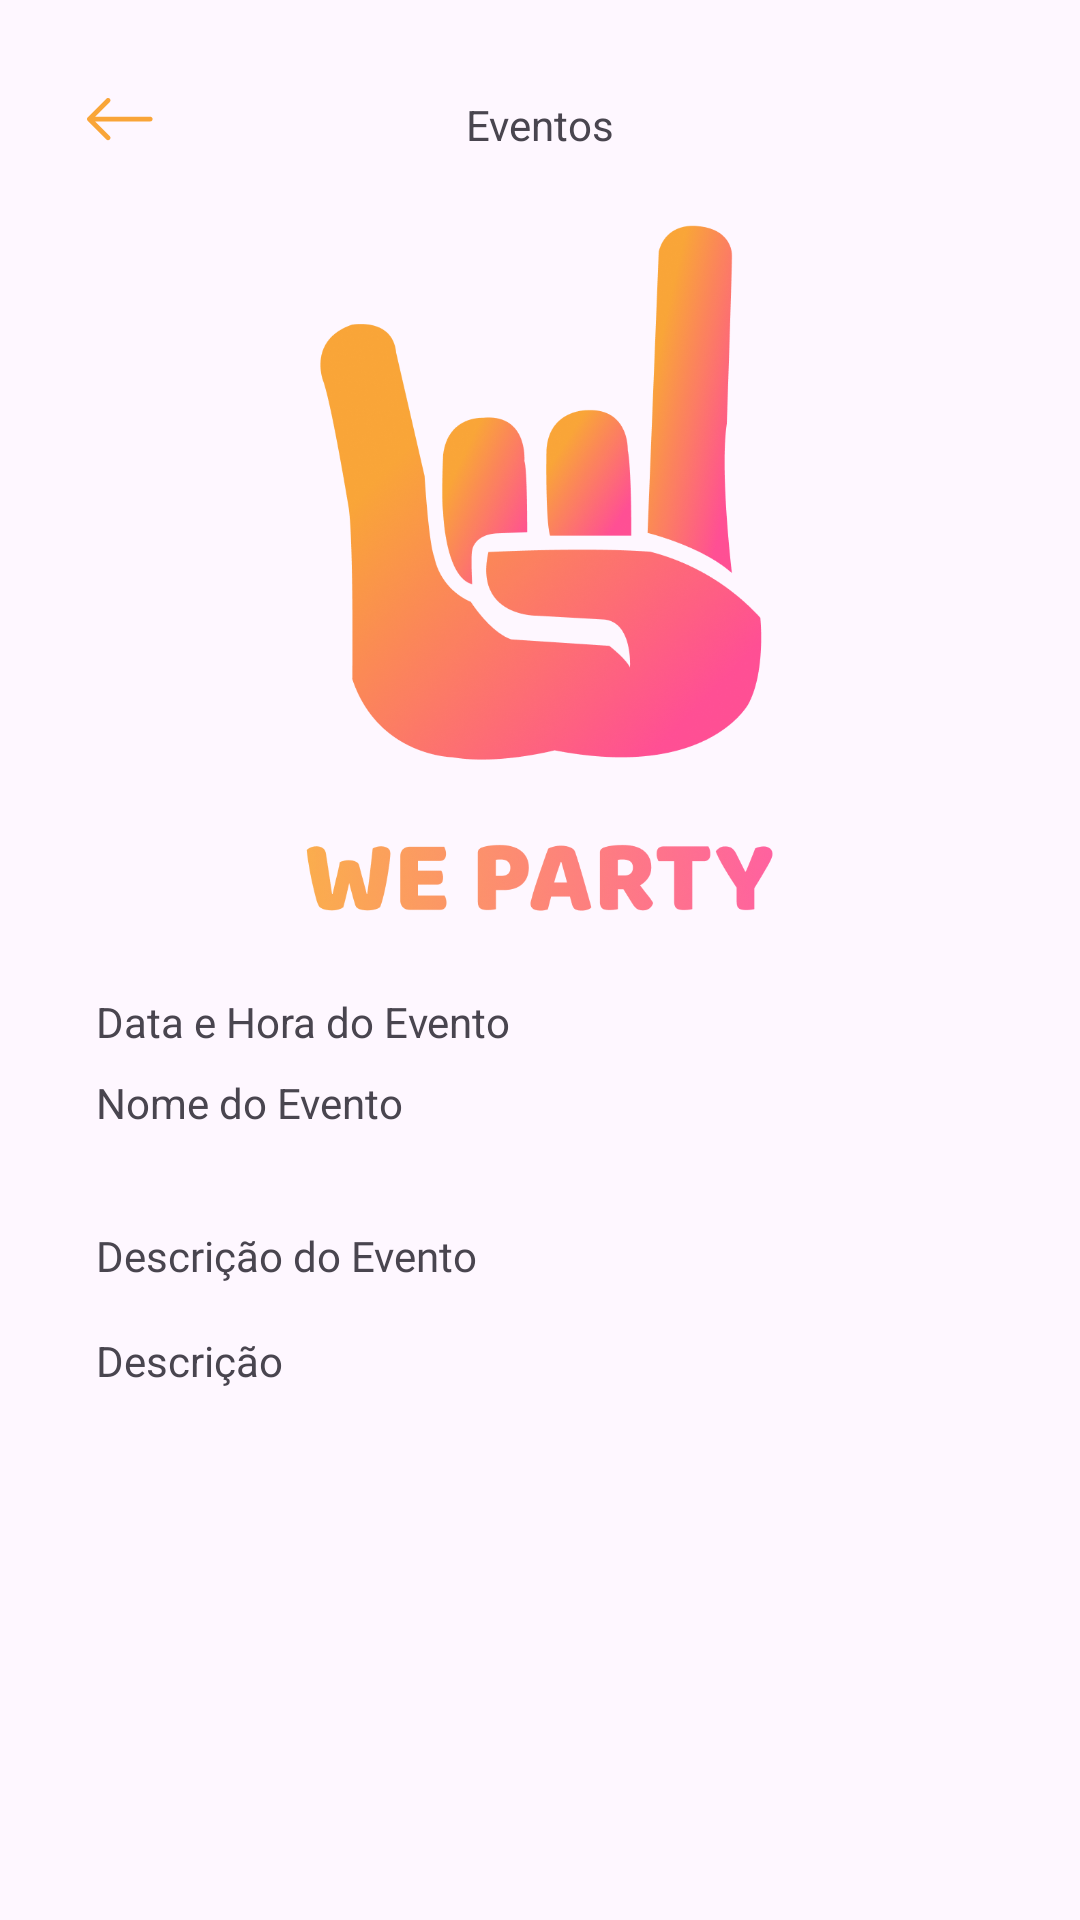

Screen size 1080×1920. Icon name, then its box in pixels as [x1,y1,x2,y2]:
back: [87,98,153,141]
